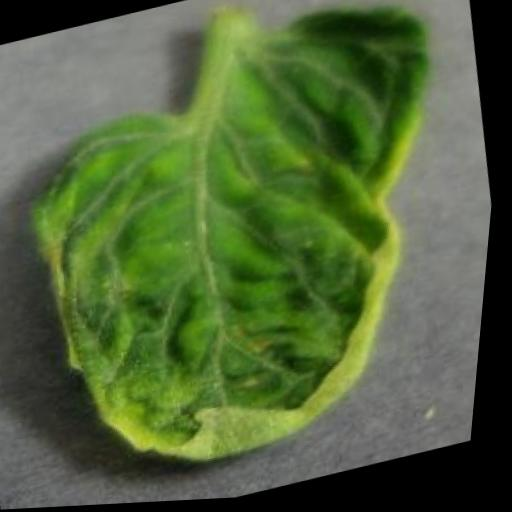Yellow Leaf Curl Virus: (0, 0, 505, 502)
